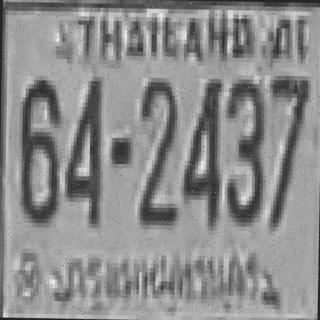N02: (136, 76, 176, 223)
N03: (223, 75, 263, 222)
N04: (181, 76, 221, 224), (64, 74, 102, 222)
N06: (18, 75, 58, 219)
N07: (268, 73, 308, 225), (268, 74, 308, 182)
P04: (58, 245, 268, 314)
